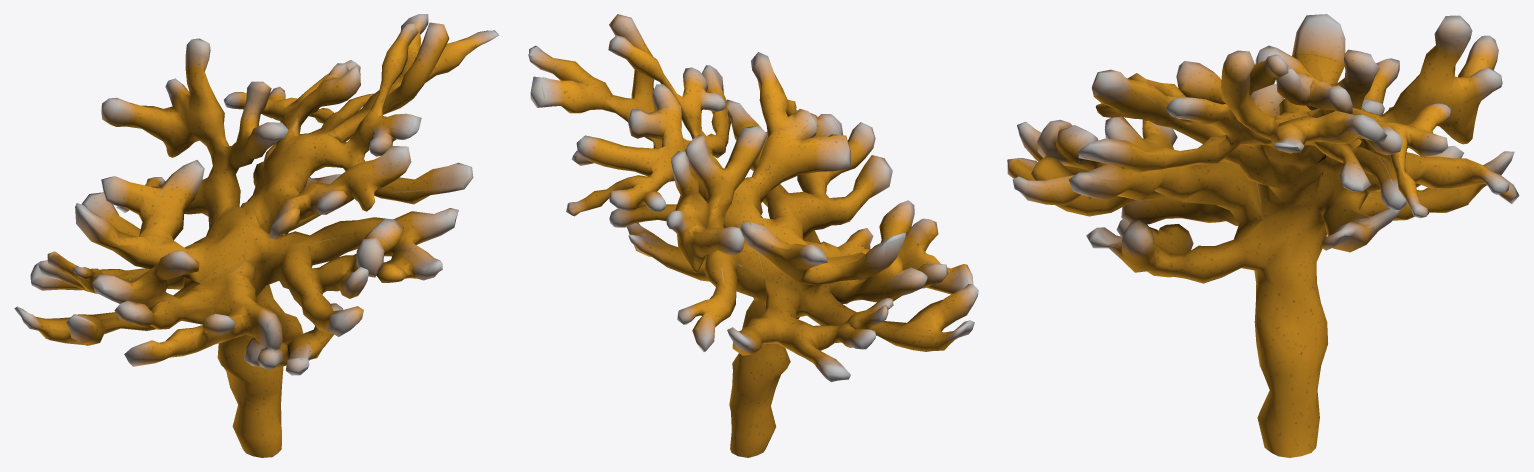
The model's file is 14-Elkhorn.fbx.
3 views of the same model, side by side, from view 1: azimuth 30°, elevation 25°; view 2: azimuth 150°, elevation 25°; view 3: azimuth 270°, elevation 25° (orthographic). The views are drawn at different scales.
Parts seen in each view (by area): view 1: 14-Elkhorn_LOD00; view 2: 14-Elkhorn_LOD00; view 3: 14-Elkhorn_LOD00.
Boxes of the visible parts, x1,y1,x2,y2 form: 14-Elkhorn_LOD00: [14, 14, 499, 457]; 14-Elkhorn_LOD00: [528, 14, 978, 457]; 14-Elkhorn_LOD00: [1007, 14, 1519, 457].
Size of what is drawn, in the model's own units: 141 by 115 by 110.
